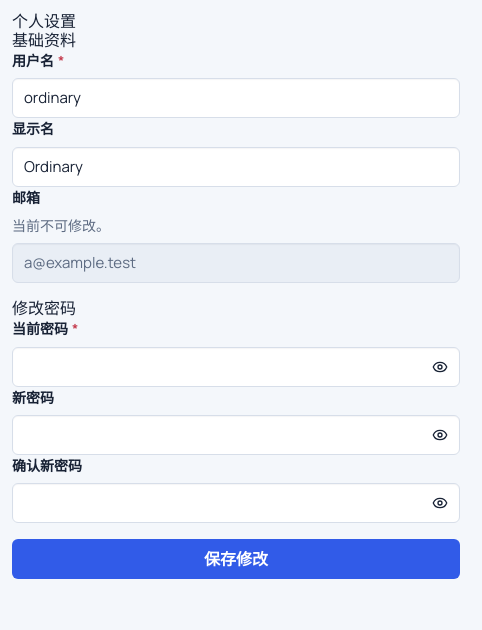
Test: 个人设置表单 › 当前密码缺失时不提交
This screenshot has width=482, height=630.
Clear the password field labelled "当前密码*" at coordinates (236, 367), box x1=12 y1=347 x2=460 y2=387
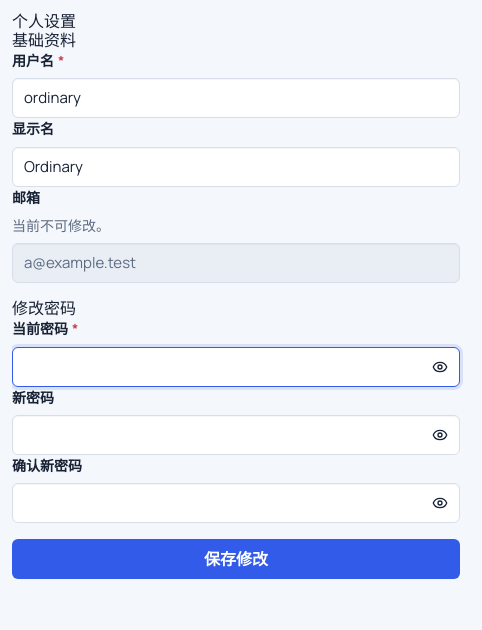
Click the button "保存修改" at coordinates (236, 559), box x1=12 y1=539 x2=460 y2=579
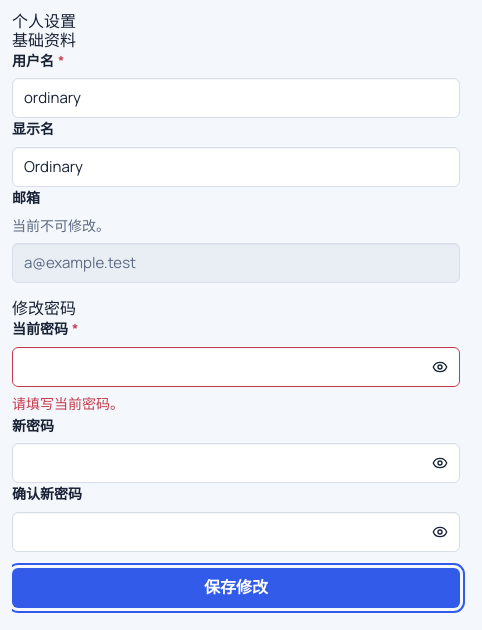
Check: the text "请填写当前密码。" is shown, box x1=12 y1=394 x2=124 y2=413
